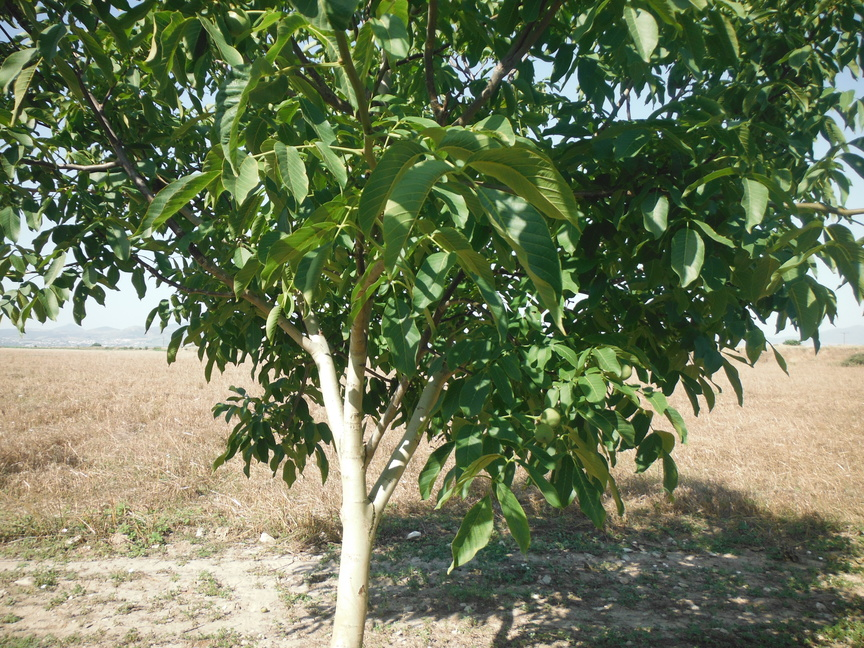walnut: (221, 2, 253, 40), (525, 420, 558, 445), (613, 358, 637, 385), (539, 405, 565, 428), (801, 77, 821, 105)
